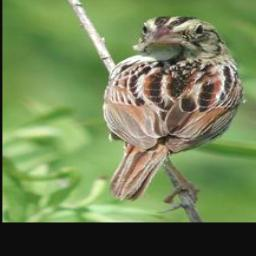Sparrow: (105, 14, 247, 215)
